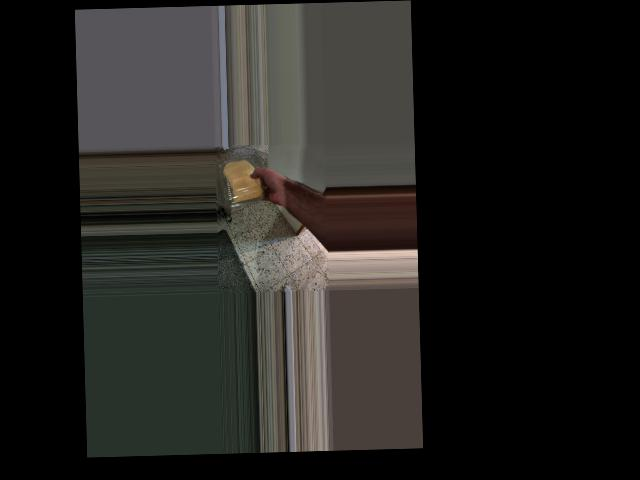cheese: (219, 157, 265, 207)
